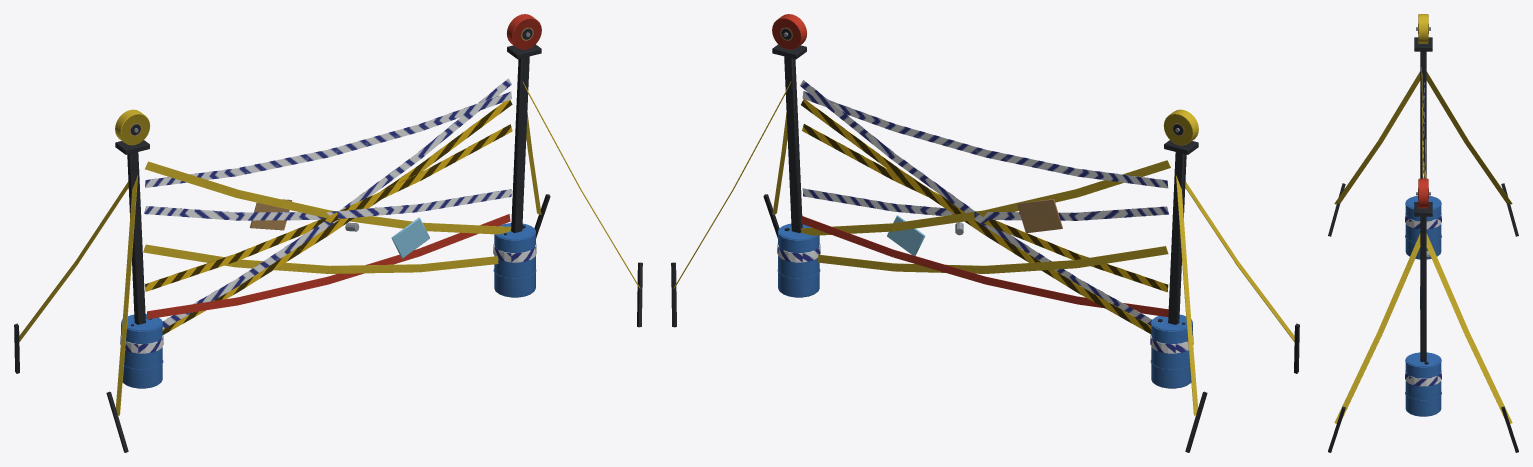
File: spooler_tape_web.glb
3 views of the same model, side by side, from view 1: azimuth 30°, elevation 25°; view 2: azimuth 150°, elevation 25°; view 3: azimuth 270°, elevation 25° (orthographic). The views are drawn at different scales.
Parts seen in each view (by area): view 1: spooler_tape_web; view 2: spooler_tape_web; view 3: spooler_tape_web.
Part boxes in pixels (x1,y1,x2,y2): spooler_tape_web: (14,14,642,452); spooler_tape_web: (671,14,1299,452); spooler_tape_web: (1328,14,1518,452).
Size of the model in its own units: 8.6 by 4.4 by 3.08.
15 materials, 15 textured.
